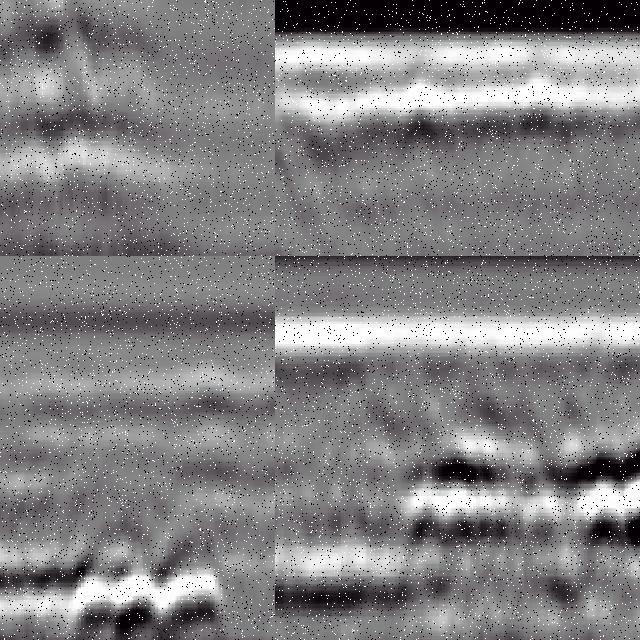loose: (400, 427, 640, 558), (1, 516, 226, 640), (1, 1, 152, 170), (276, 113, 317, 257)
